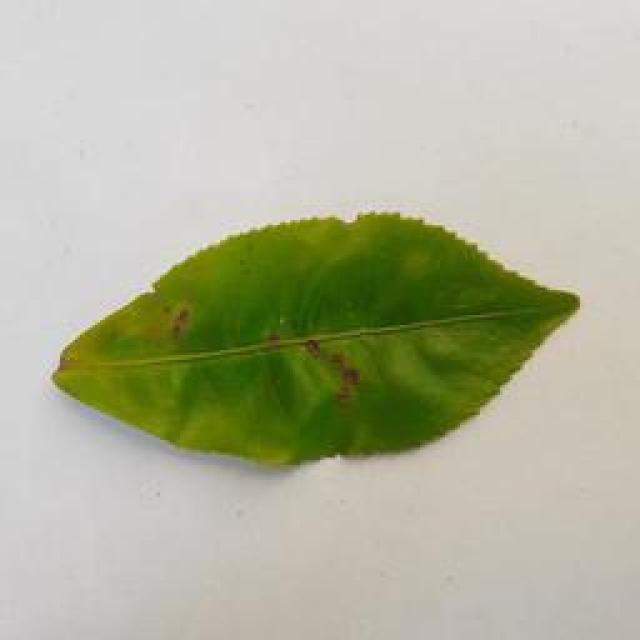Helopeltis: (43, 212, 546, 483)
